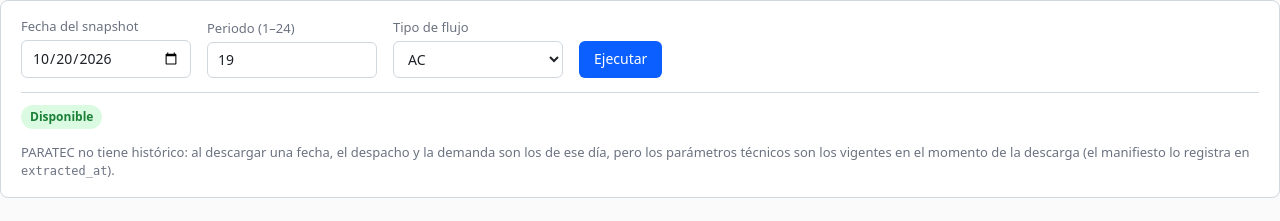
Test: RunPicker › rechaza fechas posteriores a mañana e informa si ya hay una descarga en curso
The width and height of the screenshot is (1280, 221).
In the date field with test id "snapshot-date": (106, 59) [21, 40, 191, 78], type "2099-01-01"
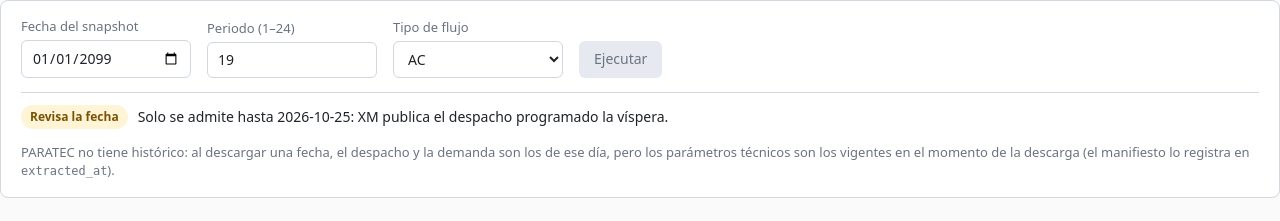
Result: the element with test id "snapshot-status" has attribute data-kind="too_late" at [21, 92, 1259, 128]
In the date field with test id "snapshot-date": (106, 59) [21, 40, 191, 78], type "2026-10-18"
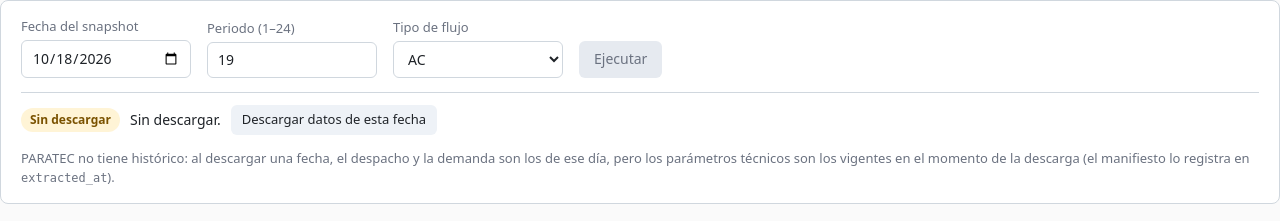
Click the button with test id "scrape-button": (334, 120) [231, 105, 437, 135]
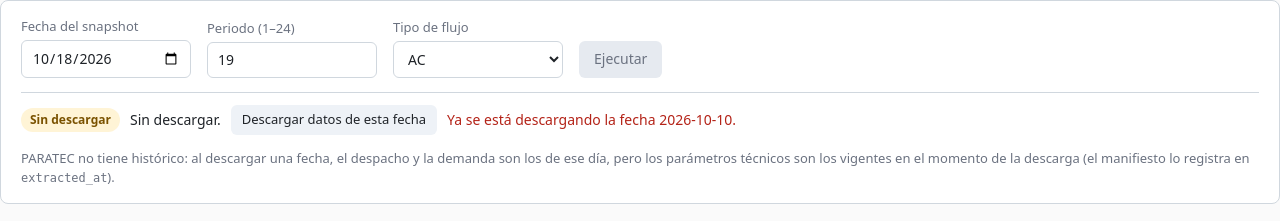
Result: the message with test id "scrape-error" shows "2026-10-10" at [447, 110, 736, 129]
